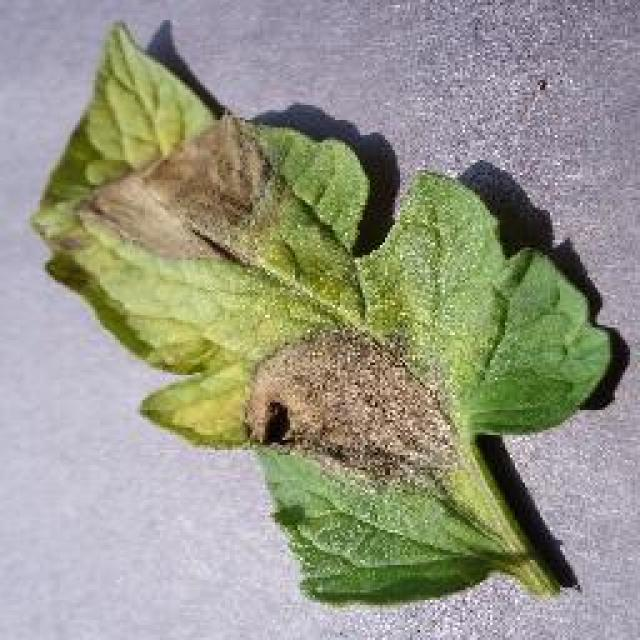Tomato Late Blight: (83, 105, 490, 513)
